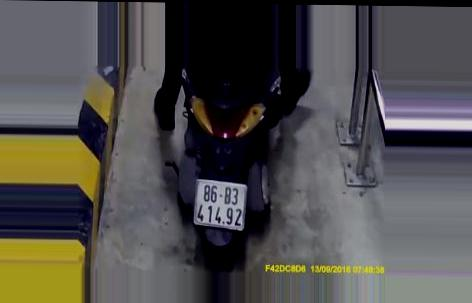License_Plate: (189, 173, 251, 234)
